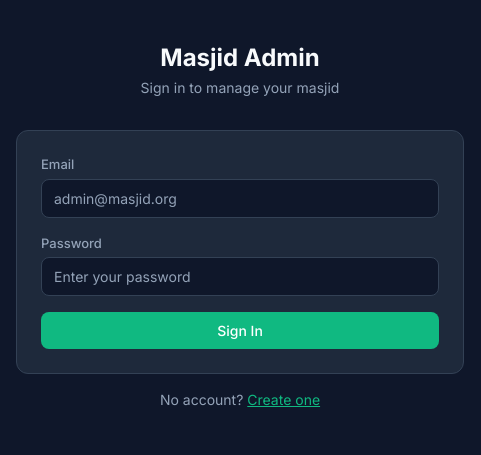
Login page › shows validation error when submitting empty form
The width and height of the screenshot is (481, 455).
Click the button "Sign In" at (240, 330), box [41,312,439,349]
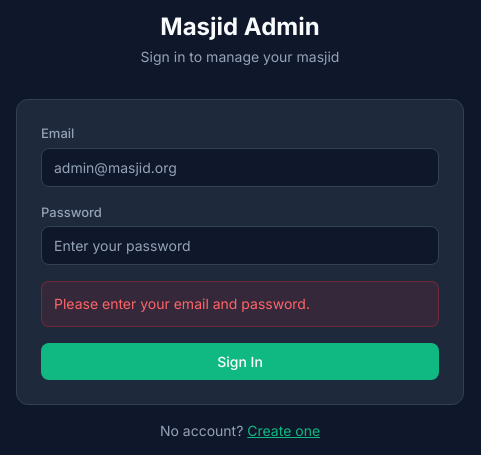
Now the text "Please enter your email and password." is shown, box [54,295,310,312]
